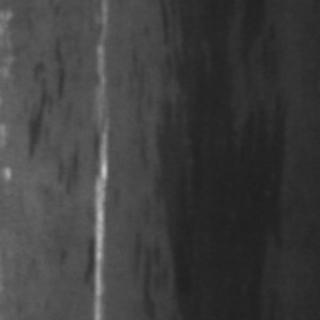inclusion: (152, 0, 278, 314), (22, 36, 70, 160)
scratches: (85, 23, 112, 315)
